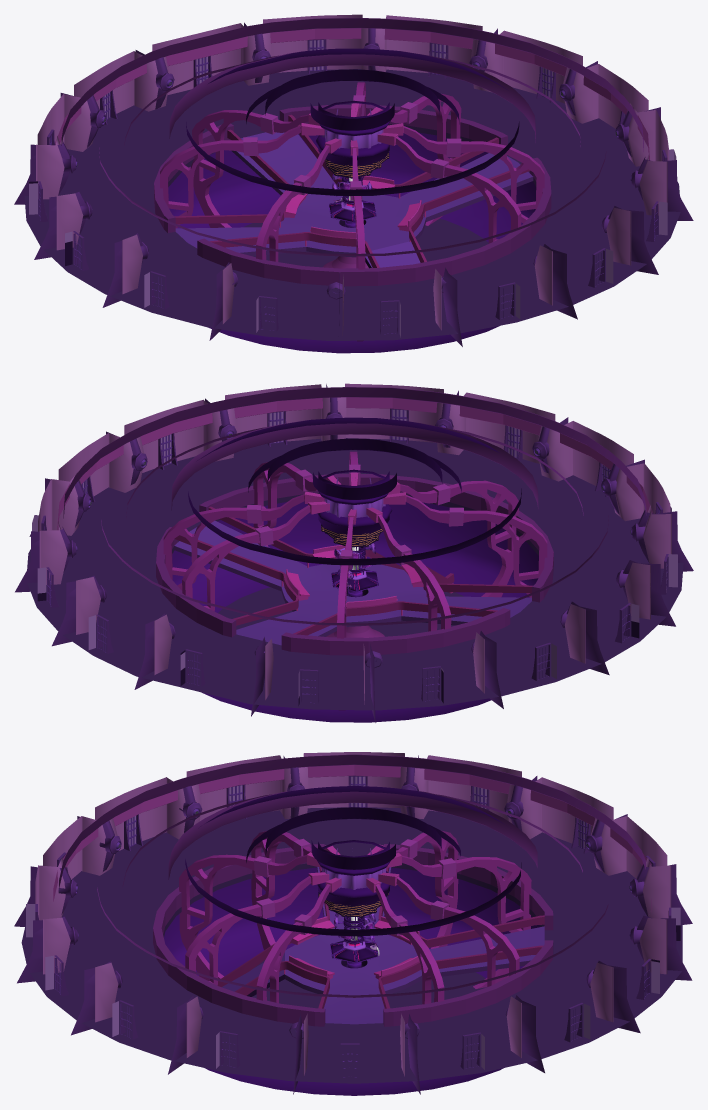
The model's file is tardis_console.glb.
The picture shows the model from 3 angles, top to bottom: view 1: azimuth 30°, elevation 25°; view 2: azimuth 150°, elevation 25°; view 3: azimuth 270°, elevation 25°; orthographic projection.
Parts seen in each view (by area): view 1: a.018, a.021, a.017, a.015, a.022, a.020, a.016, a.019, a.023, a.011, a.014, a.026; view 2: a.018, a.021, a.017, a.015, a.020, a.022, a.016, a.019, a.023, a.011, a.014, a.026; view 3: a.018, a.021, a.017, a.015, a.020, a.022, a.016, a.023, a.019, a.011, a.014, a.026.
Part boxes in pixels (box(x1,y1,x2,y2)): a.018: box(24, 69, 680, 340); a.021: box(14, 14, 693, 350); a.017: box(61, 18, 643, 256); a.015: box(160, 82, 544, 341); a.022: box(175, 132, 533, 268); a.020: box(168, 132, 536, 353); a.016: box(29, 39, 676, 337); a.019: box(175, 114, 530, 267); a.023: box(55, 28, 649, 160); a.011: box(316, 100, 390, 165); a.014: box(322, 109, 383, 227); a.026: box(329, 199, 376, 222); a.018: box(27, 438, 683, 710); a.021: box(15, 383, 693, 722); a.017: box(63, 387, 646, 625); a.015: box(163, 451, 547, 710); a.020: box(172, 501, 538, 722); a.022: box(174, 520, 531, 645); a.016: box(32, 408, 677, 705); a.019: box(174, 506, 532, 635); a.023: box(57, 397, 652, 530); a.011: box(317, 469, 392, 534); a.014: box(324, 478, 385, 597); a.026: box(331, 568, 378, 591); a.018: box(21, 807, 682, 1083); a.021: box(14, 752, 692, 1094); a.017: box(59, 754, 645, 997); a.015: box(179, 830, 531, 1004); a.020: box(164, 867, 540, 1095); a.022: box(222, 866, 544, 1024); a.016: box(26, 775, 680, 1077); a.023: box(53, 765, 651, 912); a.019: box(217, 867, 544, 1008); a.011: box(317, 840, 390, 906); a.014: box(321, 848, 386, 968); a.026: box(330, 939, 378, 962).
Size of the model in its own units: 190 by 54.76 by 190.
Materials: 6 (3 with a texture image).
